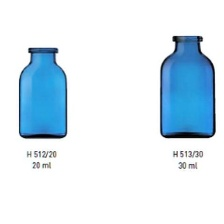bottle: (157, 29, 218, 142), (15, 42, 69, 143)
